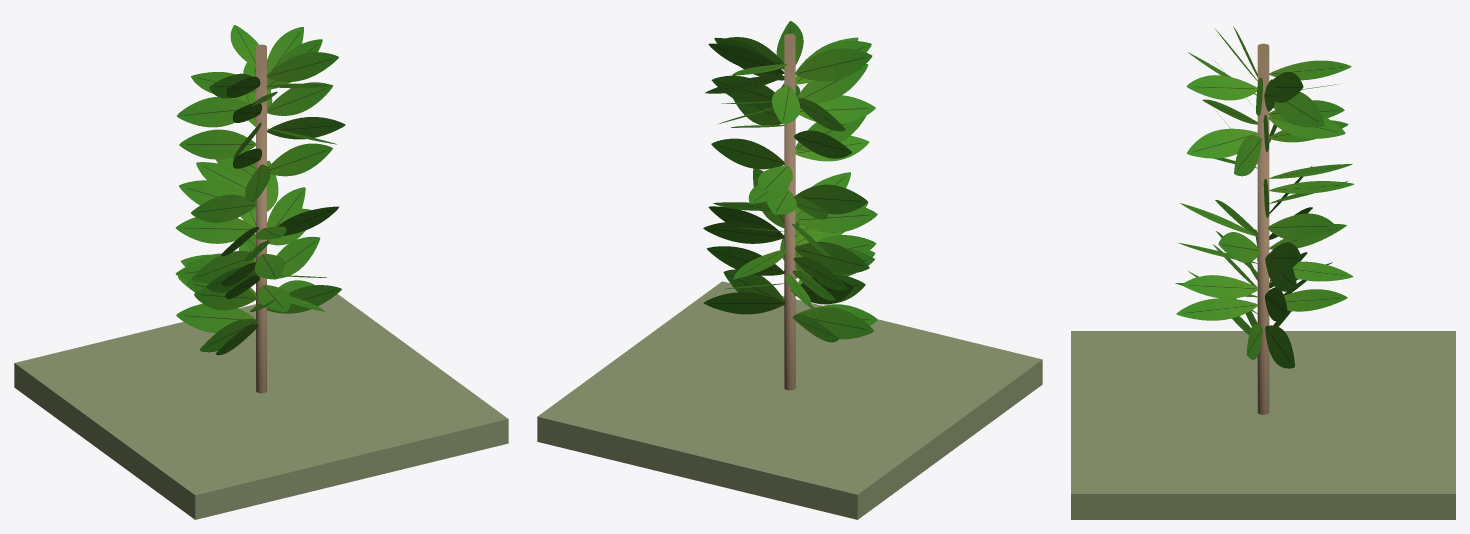
File: source.gltf
3 views of the same model, side by side, from view 1: azimuth 30°, elevation 25°; view 2: azimuth 150°, elevation 25°; view 3: azimuth 270°, elevation 25° (orthographic). The views are drawn at different scales.
Parts seen in each view (by area): view 1: branch, leaf-36, leaf-55, leaf-8, leaf-46, leaf-57, leaf-37, leaf-22, leaf-29, leaf-17, leaf-19, leaf-33 (+13 smaller); view 2: branch, leaf-21, leaf-57, leaf-14, leaf-22, leaf-31, leaf-43, leaf-58, leaf-35, leaf-39, leaf-1, leaf-36 (+16 smaller); view 3: branch, leaf-3, leaf-56, leaf-5, leaf-11, leaf-18, leaf-9, leaf-23, leaf-54, leaf-43, leaf-51, leaf-59 (+12 smaller).
Boxes of the visible parts, x1,y1,x2,y2 form: branch: (14,44,508,519); leaf-36: (179,129,256,159); leaf-55: (177,96,249,127); leaf-8: (175,217,254,243); leaf-46: (267,52,338,81); leaf-57: (268,143,332,176); leaf-37: (176,303,255,332); leaf-22: (191,194,256,222); leaf-29: (267,82,332,115); leaf-17: (267,117,345,139); leaf-19: (276,236,320,278); leaf-33: (179,180,255,211); branch: (537,33,1042,519); leaf-21: (795,48,872,81); leaf-57: (711,138,784,169); leaf-14: (795,242,869,274); leaf-22: (795,184,867,214); leaf-31: (795,307,873,339); leaf-43: (704,292,784,314); leaf-58: (795,206,877,232); leaf-35: (703,221,783,243); leaf-39: (797,64,868,103); leaf-1: (799,95,875,124); leaf-36: (794,130,851,158); branch: (1071,43,1455,519); leaf-3: (1187,128,1258,158); leaf-56: (1176,298,1257,320); leaf-5: (1186,75,1257,100); leaf-11: (1182,275,1258,298); leaf-18: (1268,213,1335,240); leaf-9: (1273,92,1324,127); leaf-23: (1284,289,1347,311); leaf-54: (1269,60,1351,80); leaf-43: (1265,325,1294,368); leaf-51: (1292,261,1353,281); leaf-59: (1268,116,1345,138).
Bounding box in the file's own units: 4 × 4.55 × 4.
3 materials, 1 textured.
